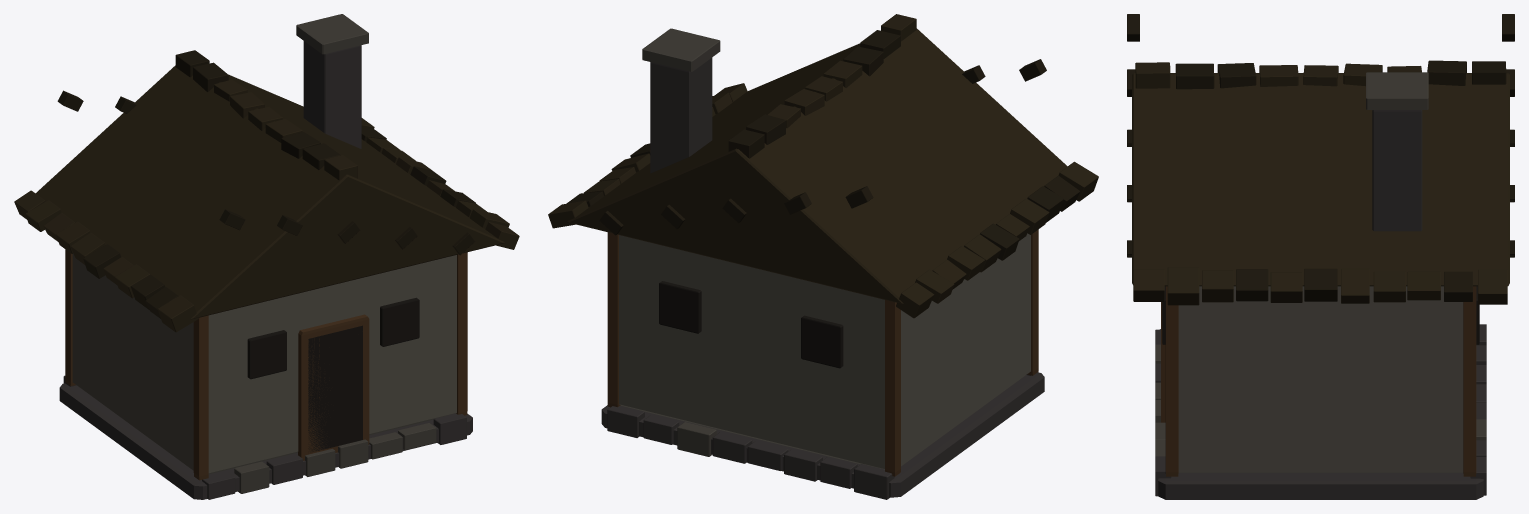
File: house_small.glb
The picture shows the model from 3 angles, left to right: view 1: azimuth 30°, elevation 25°; view 2: azimuth 150°, elevation 25°; view 3: azimuth 270°, elevation 25°; orthographic projection. The views are drawn at different scales.
Parts seen in each view (by area): view 1: house_small; view 2: house_small; view 3: house_small.
Boxes of the visible parts, left/top/right/bottom form: house_small: left=14, top=14, right=519, bottom=499; house_small: left=548, top=14, right=1098, bottom=499; house_small: left=1127, top=14, right=1514, bottom=499.
Bounding box in the file's own units: 5.9 × 5.41 × 4.82.
